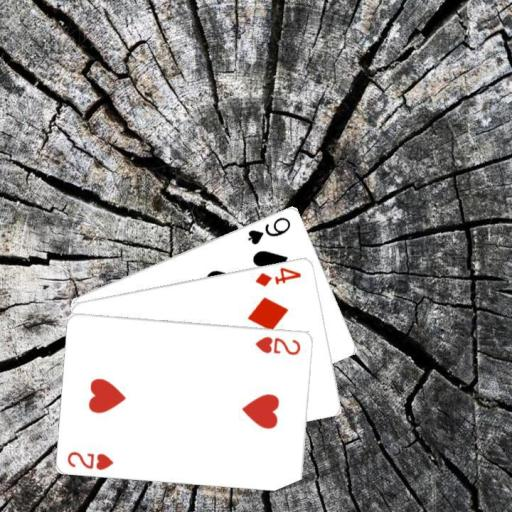2H: (252, 333, 303, 356), (65, 448, 115, 471)
4D: (252, 264, 303, 287)
9S: (244, 213, 292, 246)
